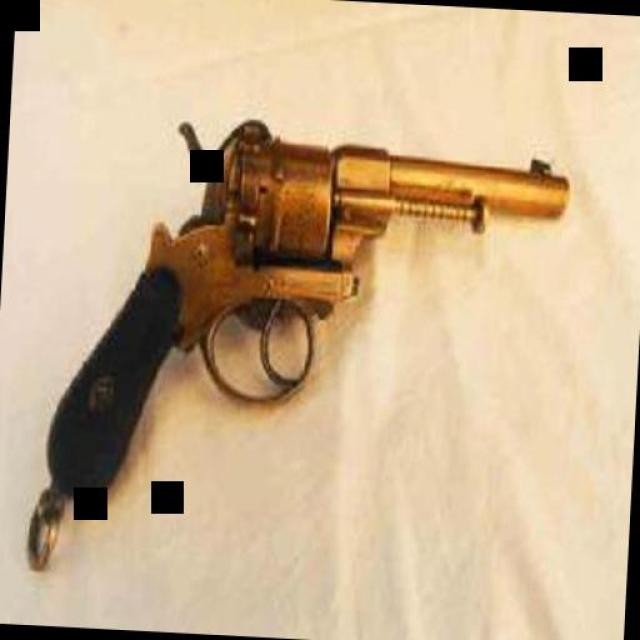gun: (42, 101, 570, 524)
